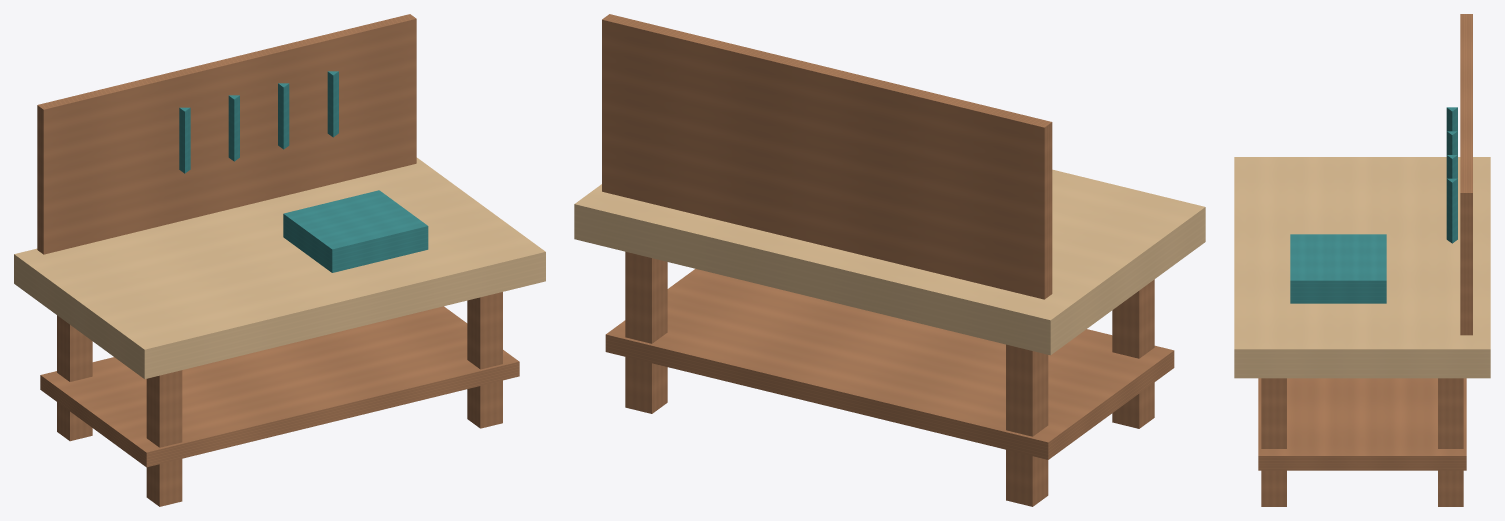
The model's file is atlas100-s092-a06.lod2.glb.
3 renders of one model, left to right at view 1: azimuth 30°, elevation 25°; view 2: azimuth 150°, elevation 25°; view 3: azimuth 270°, elevation 25°, orthographic. The views are drawn at different scales.
Visible parts, largest first — view 1: atlas100-s092-a06:part-004, atlas100-s092-a06:part-006, atlas100-s092-a06:part-005, atlas100-s092-a06:part-012, atlas100-s092-a06:part-001, atlas100-s092-a06:part-003, atlas100-s092-a06:part-000, atlas100-s092-a06:part-008, atlas100-s092-a06:part-009, atlas100-s092-a06:part-010, atlas100-s092-a06:part-011; view 2: atlas100-s092-a06:part-006, atlas100-s092-a06:part-005, atlas100-s092-a06:part-004, atlas100-s092-a06:part-002, atlas100-s092-a06:part-000, atlas100-s092-a06:part-001; view 3: atlas100-s092-a06:part-004, atlas100-s092-a06:part-005, atlas100-s092-a06:part-012, atlas100-s092-a06:part-006, atlas100-s092-a06:part-002, atlas100-s092-a06:part-003, atlas100-s092-a06:part-011, atlas100-s092-a06:part-008.
Boxes of the visible parts, x1=… form: atlas100-s092-a06:part-004: x1=14, y1=157, x2=545, y2=379; atlas100-s092-a06:part-006: x1=37, y1=14, x2=416, y2=254; atlas100-s092-a06:part-005: x1=40, y1=306, x2=519, y2=467; atlas100-s092-a06:part-012: x1=283, y1=190, x2=428, y2=272; atlas100-s092-a06:part-001: x1=146, y1=370, x2=182, y2=506; atlas100-s092-a06:part-003: x1=467, y1=292, x2=502, y2=428; atlas100-s092-a06:part-000: x1=57, y1=315, x2=92, y2=441; atlas100-s092-a06:part-008: x1=179, y1=107, x2=190, y2=173; atlas100-s092-a06:part-009: x1=228, y1=95, x2=239, y2=161; atlas100-s092-a06:part-010: x1=278, y1=83, x2=289, y2=149; atlas100-s092-a06:part-011: x1=327, y1=71, x2=338, y2=137; atlas100-s092-a06:part-006: x1=602, y1=14, x2=1052, y2=299; atlas100-s092-a06:part-005: x1=605, y1=269, x2=1174, y2=459; atlas100-s092-a06:part-004: x1=574, y1=169, x2=1205, y2=355; atlas100-s092-a06:part-002: x1=625, y1=251, x2=667, y2=413; atlas100-s092-a06:part-000: x1=1006, y1=344, x2=1048, y2=506; atlas100-s092-a06:part-001: x1=1112, y1=279, x2=1154, y2=428; atlas100-s092-a06:part-004: x1=1234, y1=157, x2=1490, y2=378; atlas100-s092-a06:part-005: x1=1258, y1=378, x2=1466, y2=470; atlas100-s092-a06:part-012: x1=1290, y1=234, x2=1386, y2=303; atlas100-s092-a06:part-006: x1=1460, y1=14, x2=1472, y2=335; atlas100-s092-a06:part-002: x1=1438, y1=378, x2=1463, y2=506; atlas100-s092-a06:part-003: x1=1261, y1=378, x2=1286, y2=506; atlas100-s092-a06:part-011: x1=1446, y1=178, x2=1457, y2=243; atlas100-s092-a06:part-008: x1=1446, y1=107, x2=1457, y2=131.
Bounding box in the file's own units: 2.84 × 2.21 × 1.6.
Materials: 3 (3 with a texture image).
